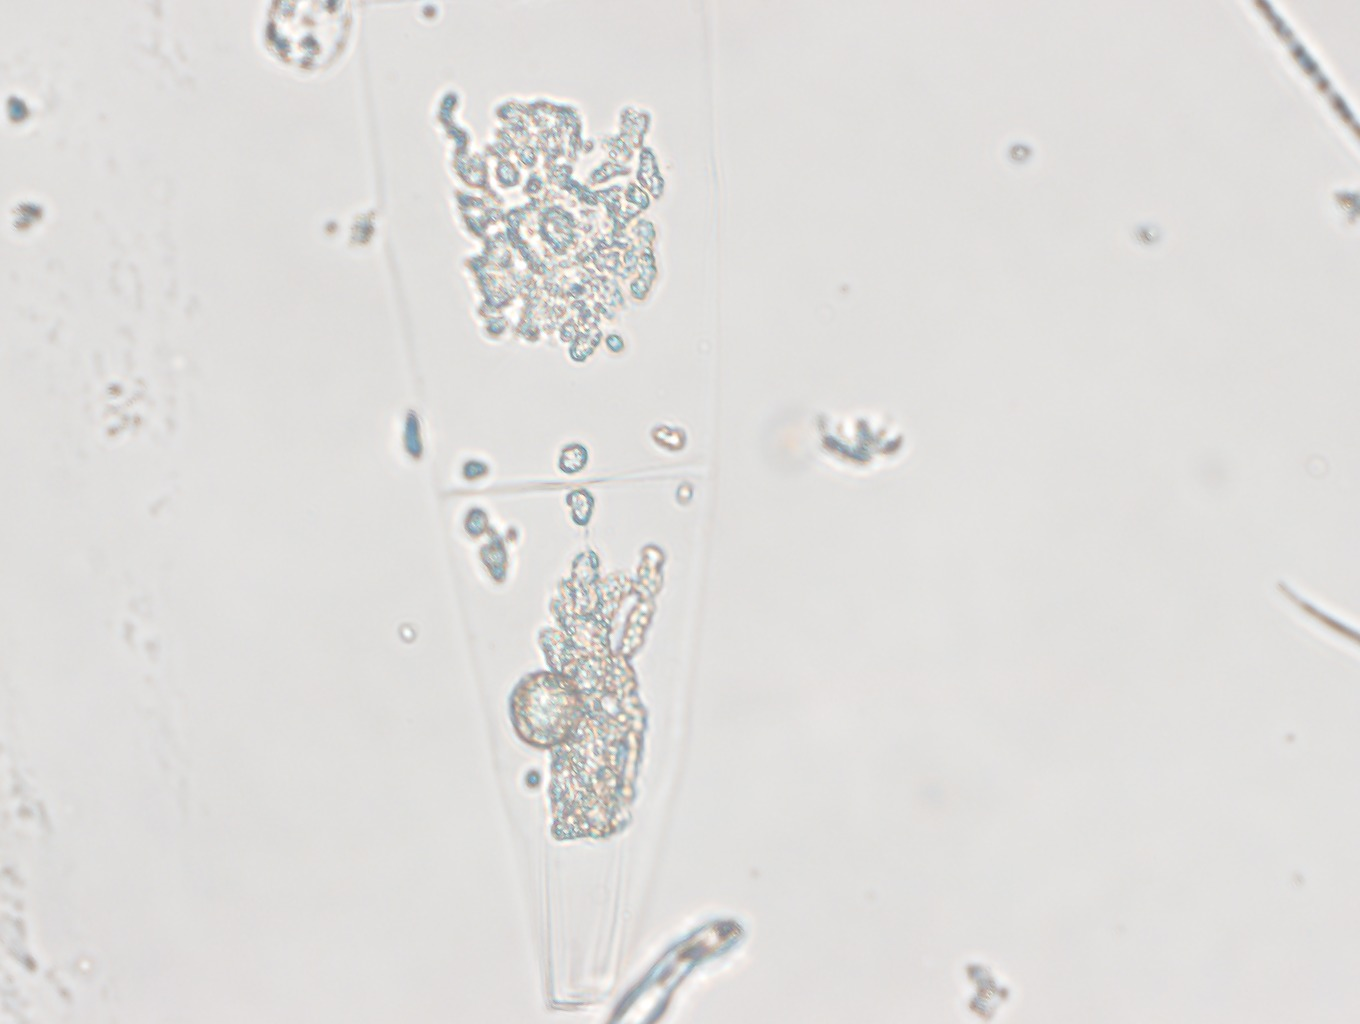helicotheca: (358, 1, 719, 1007)
